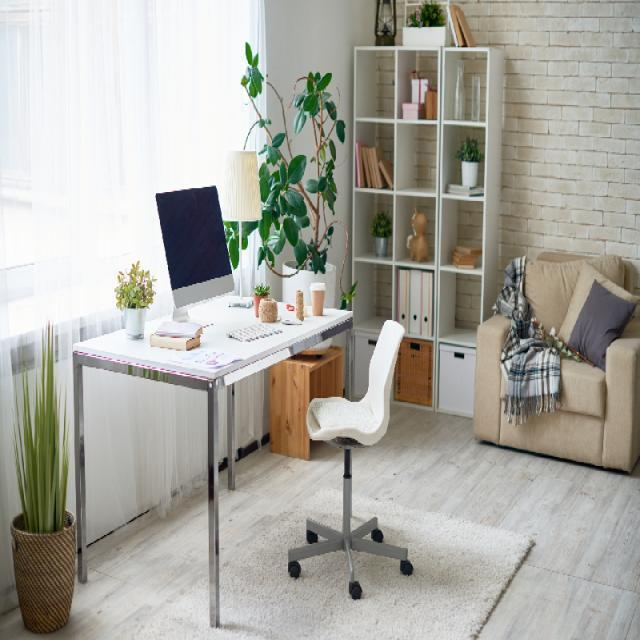table: (66, 274, 362, 456)
